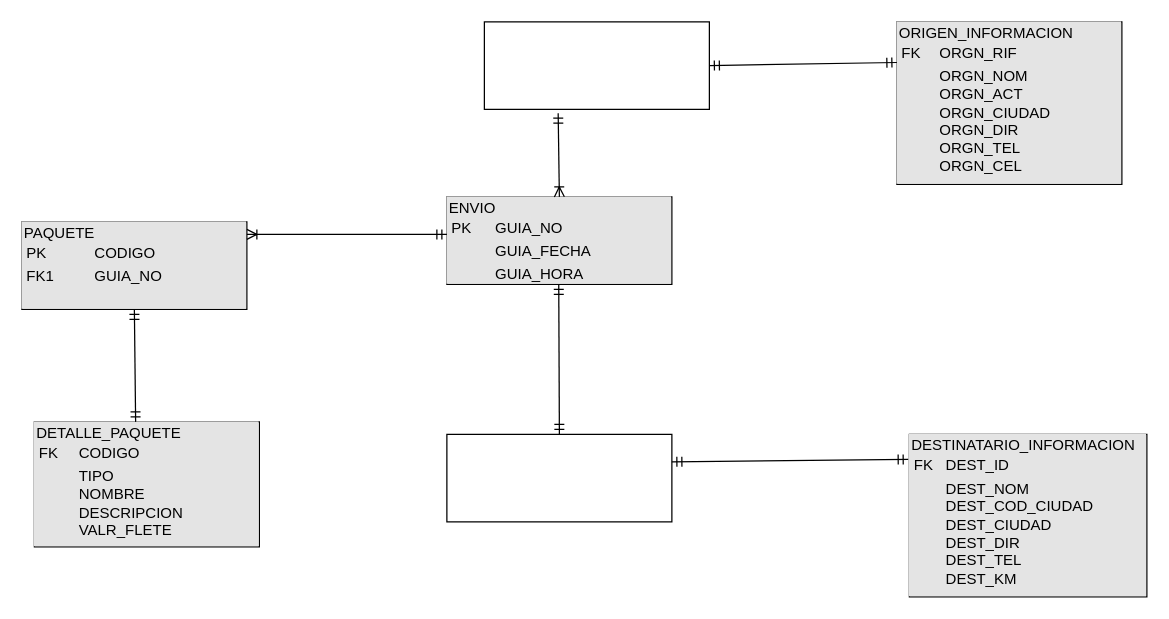
Some shapes in this 1169 by 619 pixel diagram are drawn without their labels. Each missing label, with the box of its shape:
DESTINATARIO PK DEST_ID FK GUIA_NO: (446, 433, 672, 522)
ORIGEN PK ORGN_RIF FK GUIA_NO: (483, 21, 709, 109)
